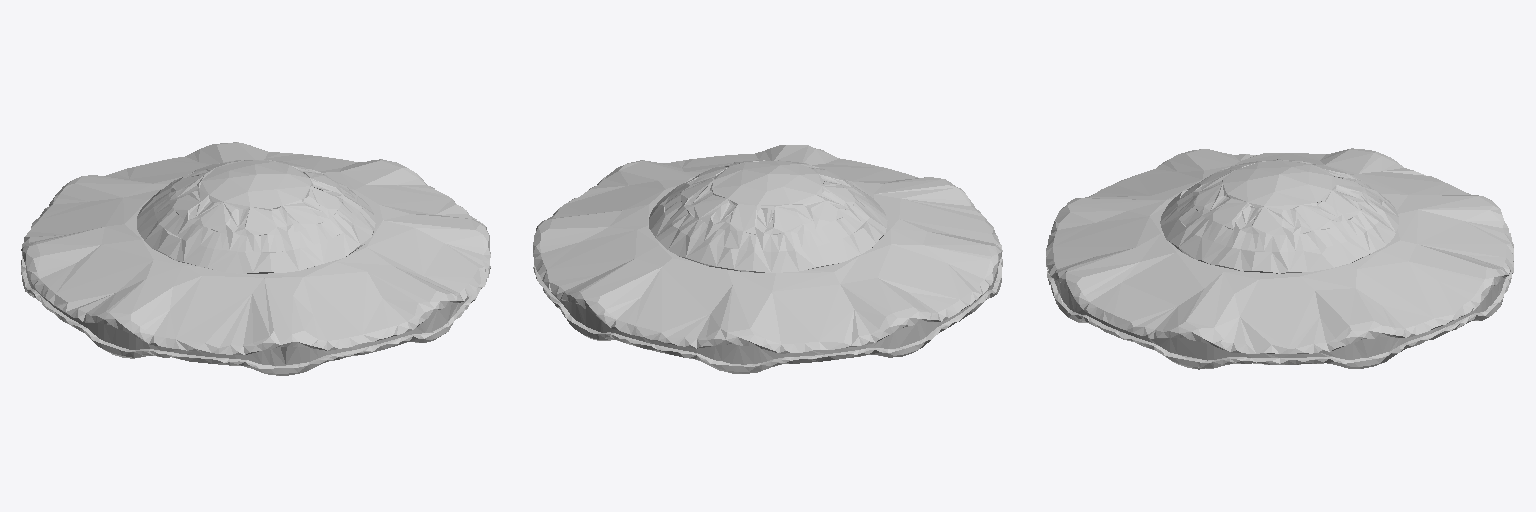
The model's file is frame_025.obj.
3 renders of one model, left to right at view 1: azimuth 30°, elevation 25°; view 2: azimuth 150°, elevation 25°; view 3: azimuth 270°, elevation 25°, orthographic.
Visible parts, largest first — view 1: 13884_UFO_Saucer_v1_l2; view 2: 13884_UFO_Saucer_v1_l2; view 3: 13884_UFO_Saucer_v1_l2.
Part boxes in pixels (left/top/right/bottom): 13884_UFO_Saucer_v1_l2: left=21, top=142, right=490, bottom=375; 13884_UFO_Saucer_v1_l2: left=533, top=145, right=1002, bottom=373; 13884_UFO_Saucer_v1_l2: left=1046, top=148, right=1513, bottom=369.
Size of the model in its own units: 12.69 by 4.88 by 12.7.